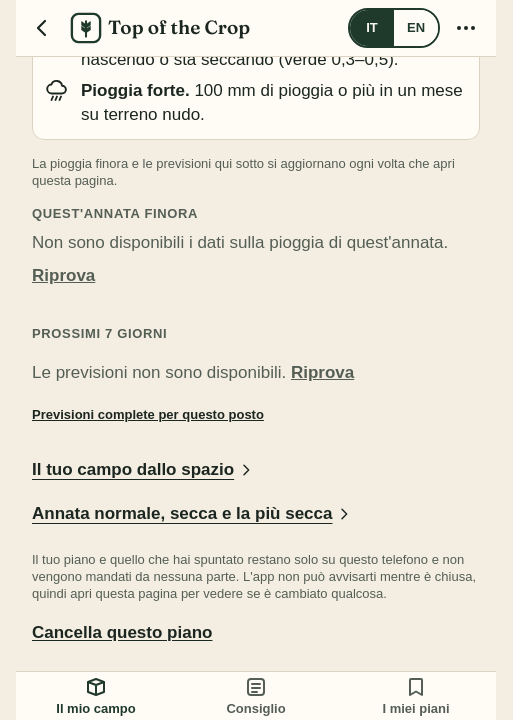
it: Your field today › forgets the plan when asked, and speaks Italian
This screenshot has width=513, height=720.
(page scrolled)
Click the button "Cancella questo piano": x=122, y=633 32,611 -> 212,655
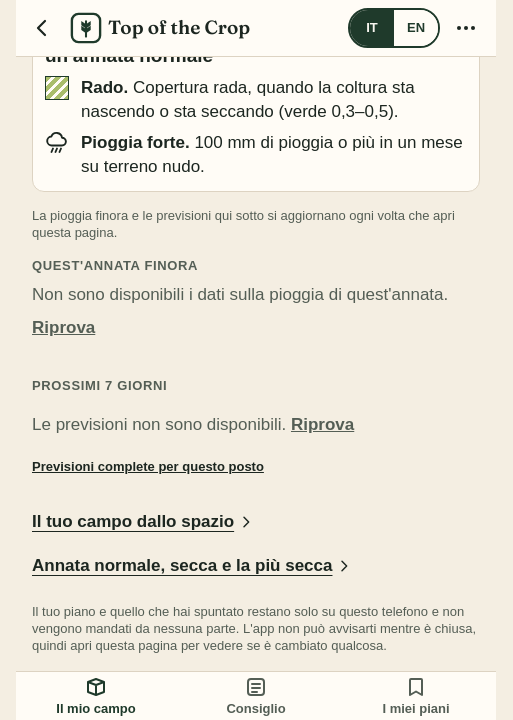
Expected: the button with test id "plan-forget" is gone
